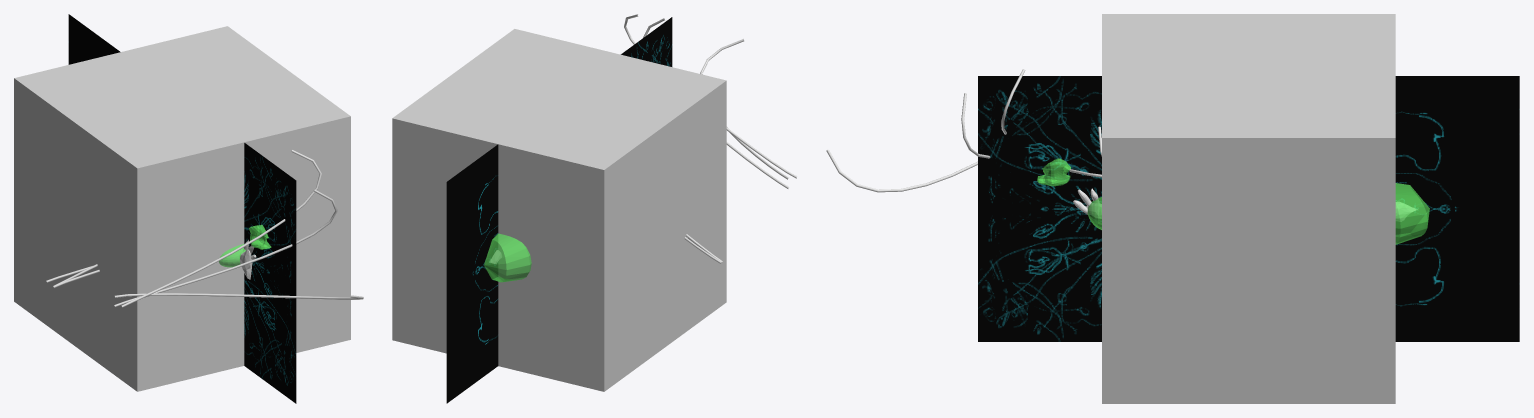
The model's file is organism.glb.
3 renders of one model, left to right at view 1: azimuth 30°, elevation 25°; view 2: azimuth 150°, elevation 25°; view 3: azimuth 270°, elevation 25°, orthographic. The views are drawn at different scales.
Visible parts, largest first — view 1: Cube, Plane, Cube.010, BézierCurve.004, Sphere.004; view 2: Cube, Plane, Sphere, Cube.010; view 3: Cube, Plane, Cube.010, Sphere.
Boxes of the visible parts, left/top/right/bottom form: Cube: left=14, top=26, right=350, bottom=391; Plane: left=68, top=14, right=296, bottom=403; Cube.010: left=46, top=150, right=363, bottom=307; BézierCurve.004: left=122, top=150, right=321, bottom=306; Sphere.004: left=219, top=244, right=245, bottom=267; Cube: left=392, top=29, right=726, bottom=391; Plane: left=446, top=17, right=672, bottom=403; Sphere: left=484, top=233, right=531, bottom=282; Cube.010: left=624, top=14, right=797, bottom=263; Cube: left=1102, top=14, right=1395, bottom=403; Plane: left=978, top=76, right=1519, bottom=341; Cube.010: left=826, top=69, right=1101, bottom=191; Sphere: left=1395, top=183, right=1429, bottom=244.
Size of the model in its own units: 2.41 by 2.12 by 4.72.
3 materials, 1 textured.
